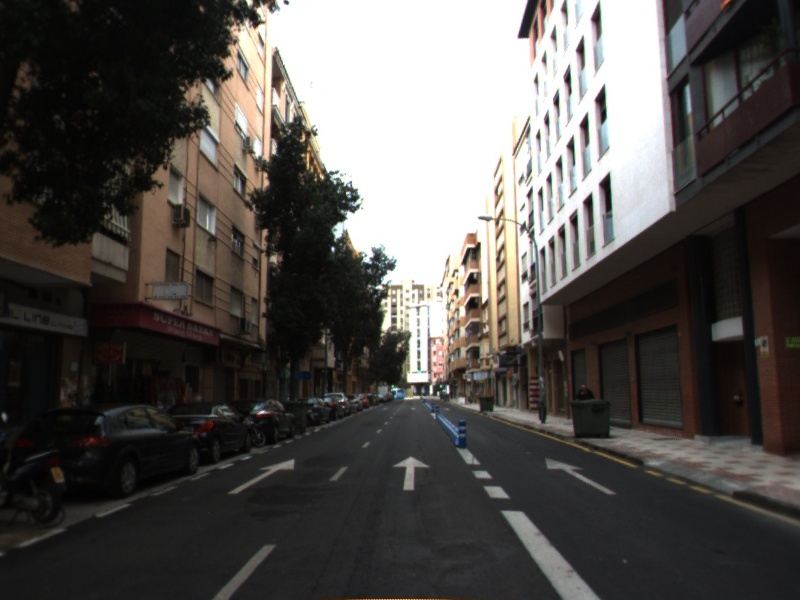STRAIGHT: (544, 456, 618, 497), (226, 456, 296, 496), (390, 454, 432, 492)
